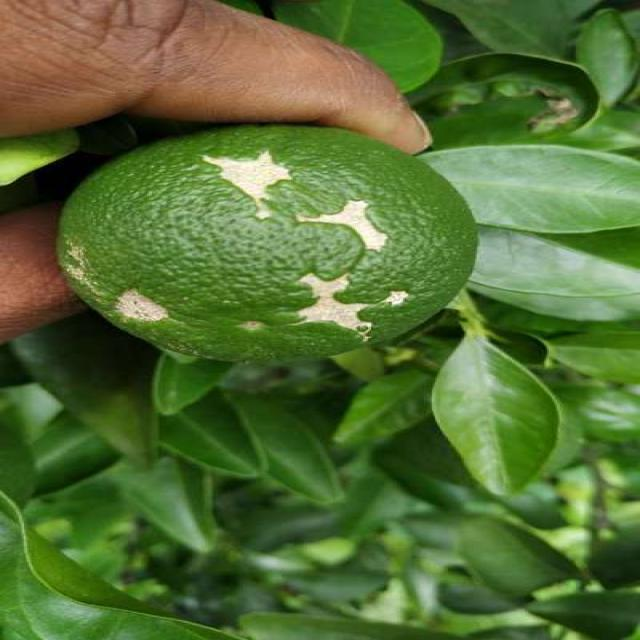thrips: (58, 126, 494, 365)
